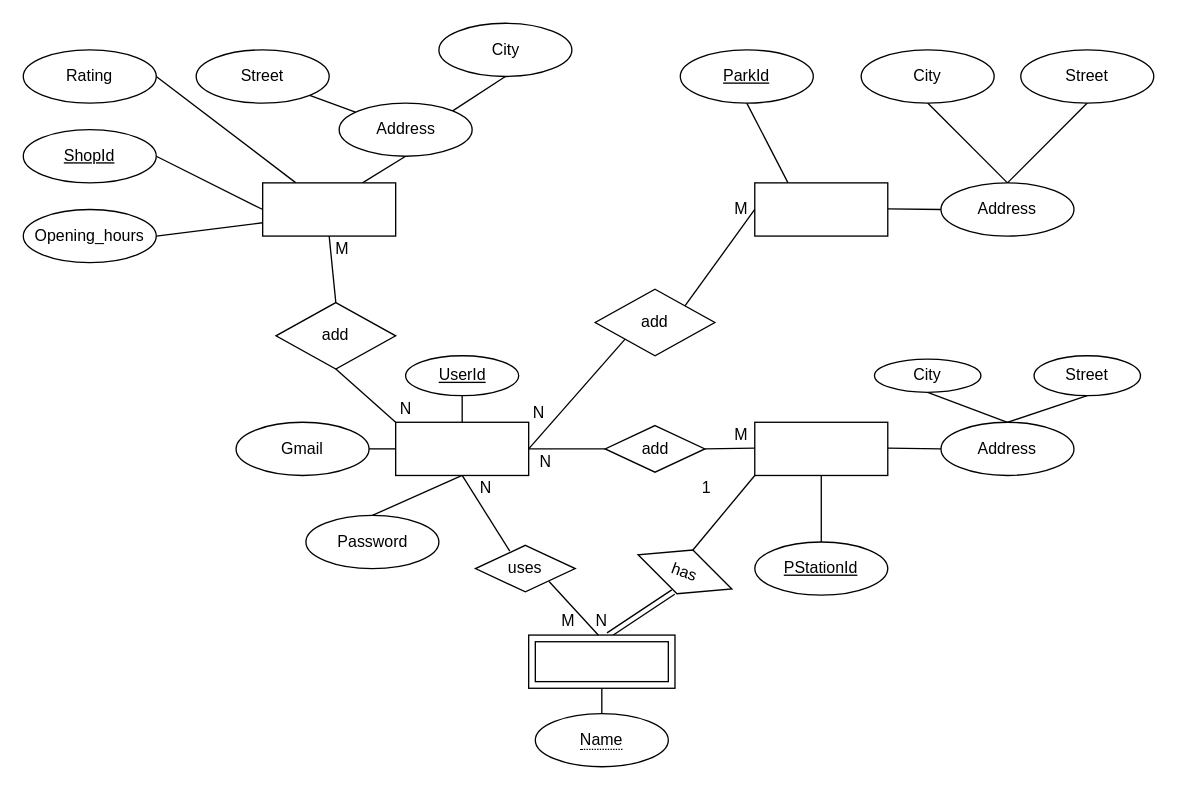
Image size: 1177x790. Some labels were removed from this diagram. Here are the shapes that lost their labels. From the top down, the centre of each, then its label:
At point (328, 209): "BikeShop".
At point (820, 209): "Bike_parking_lot".
At point (461, 448): "User".
At point (820, 448): "Pumping_station".
At point (601, 661): "Bike_service_tool".
